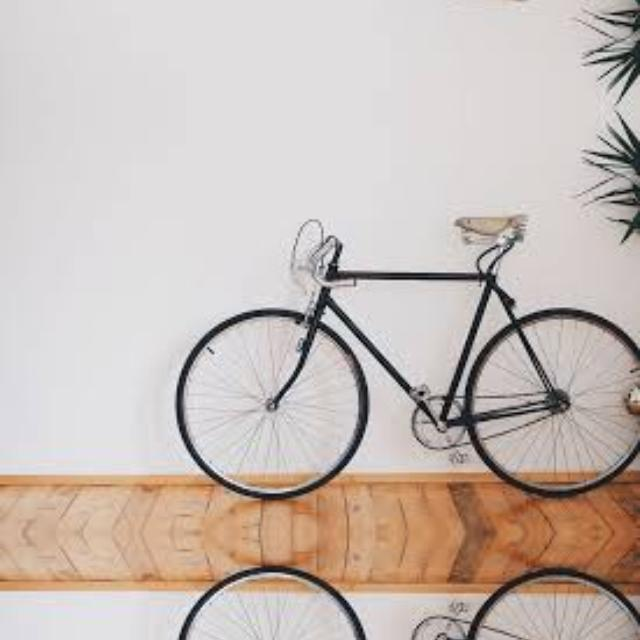obstacle: (149, 183, 640, 532), (149, 533, 640, 640), (149, 0, 640, 30)
